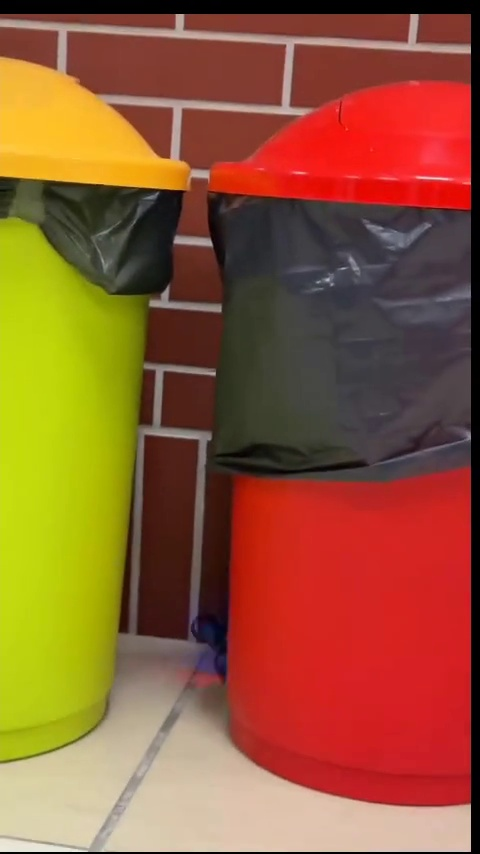drone: (190, 589, 229, 685)
